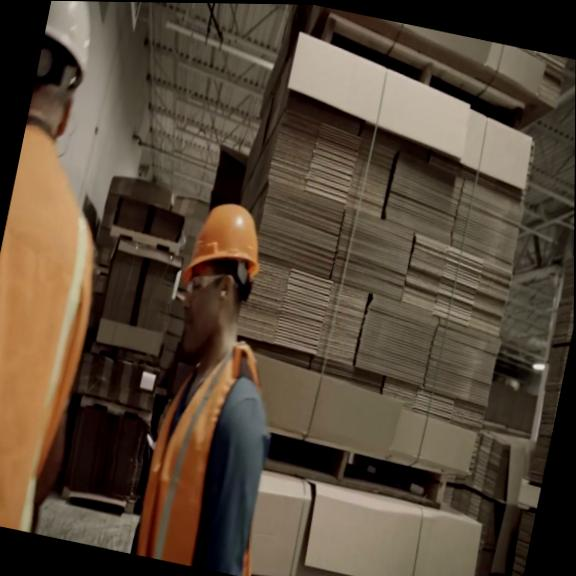safety_vest: (0, 112, 130, 537), (132, 325, 297, 576)
